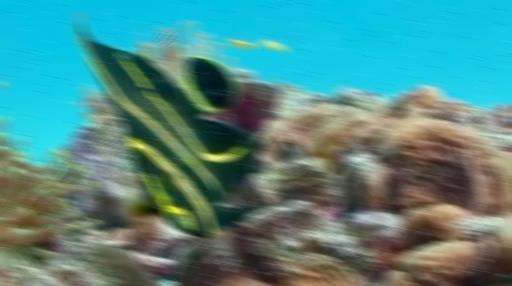Fish: (77, 15, 264, 237)
